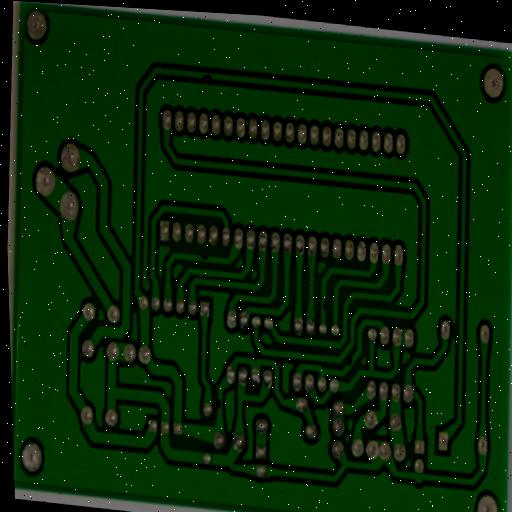mouse_bite: (196, 69, 217, 86), (317, 293, 330, 316), (342, 354, 357, 371), (213, 391, 224, 414), (196, 251, 211, 267)
